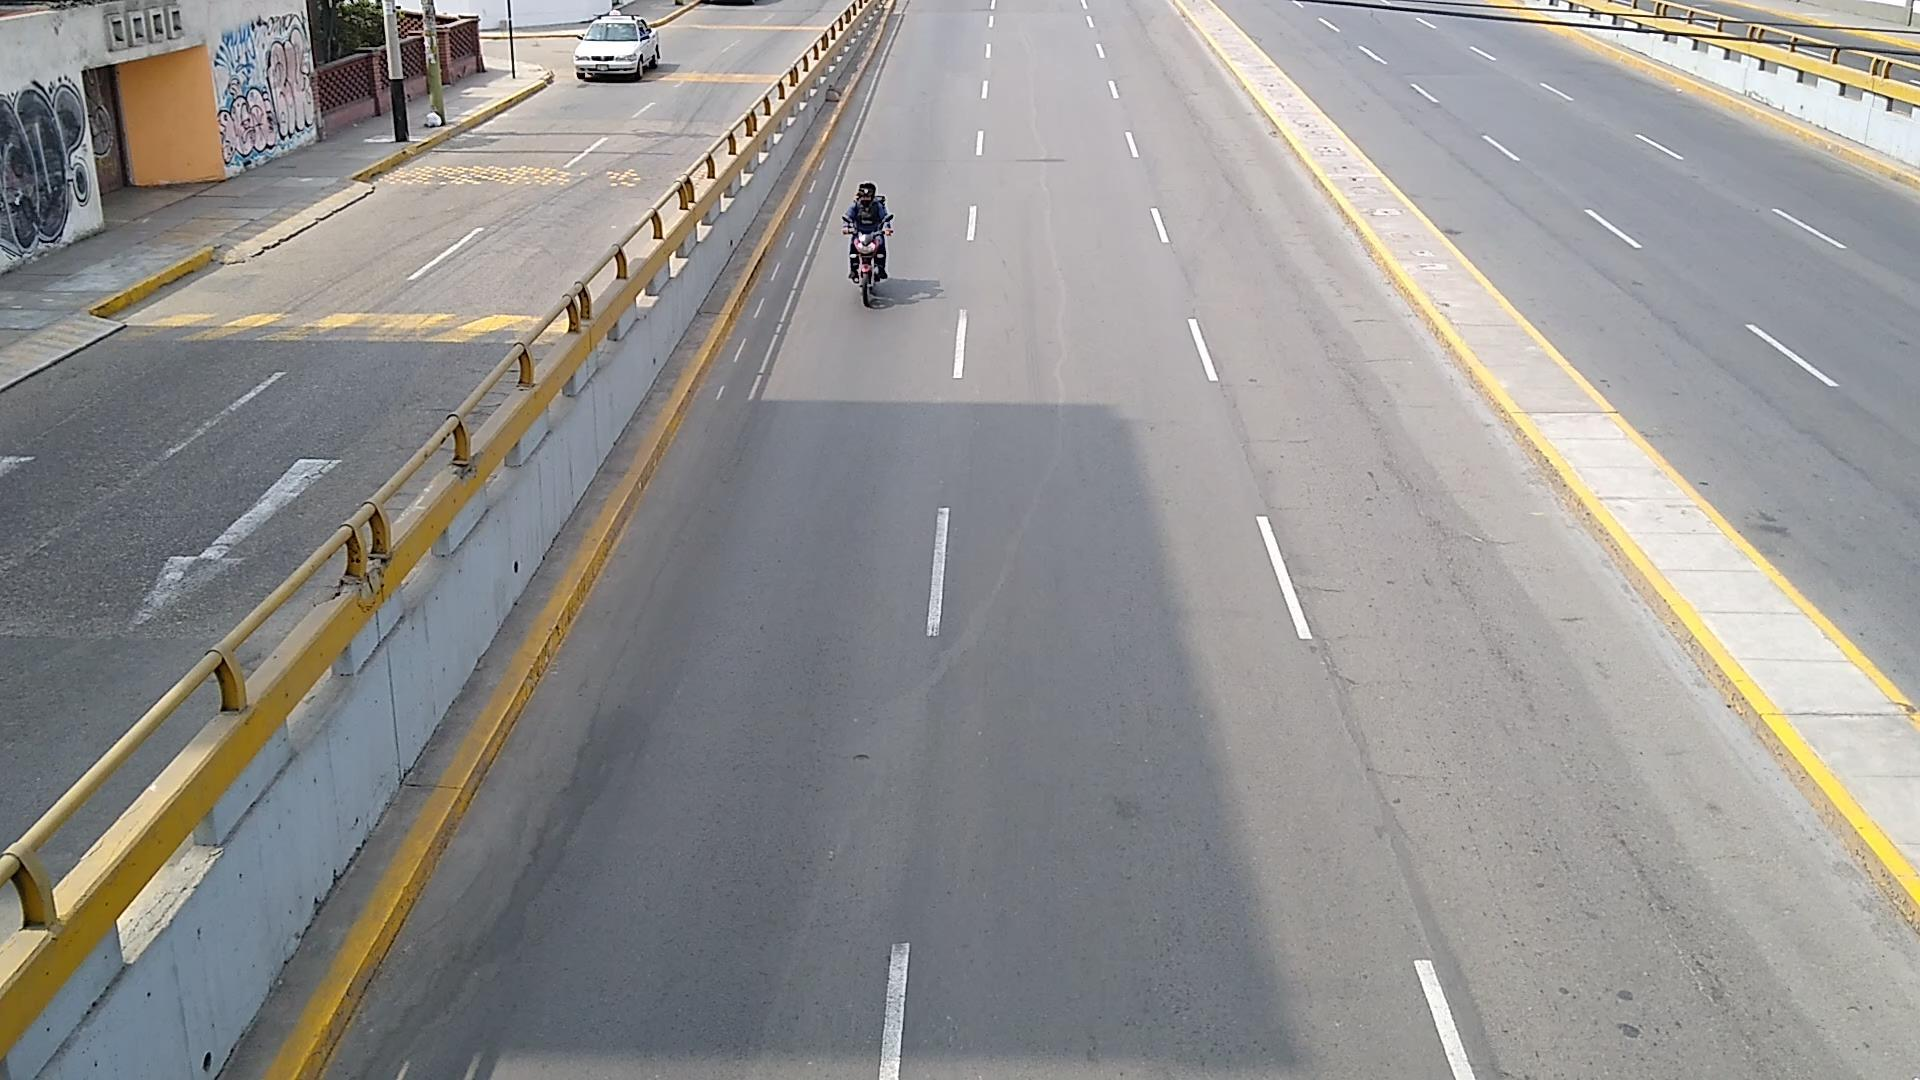car: (574, 15, 660, 79)
cyclist: (844, 184, 892, 236)
motorcyclist: (844, 184, 892, 236), (878, 251, 885, 276)
